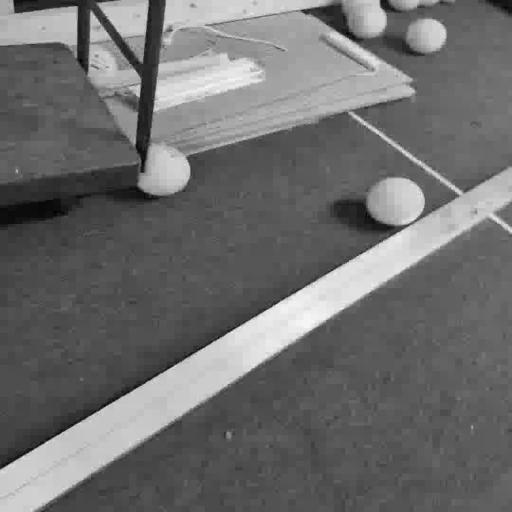fuel: (366, 178, 424, 226), (137, 144, 190, 196), (406, 19, 447, 54), (87, 45, 118, 90), (347, 5, 386, 38), (342, 0, 380, 15), (388, 0, 419, 11), (419, 0, 439, 6)
